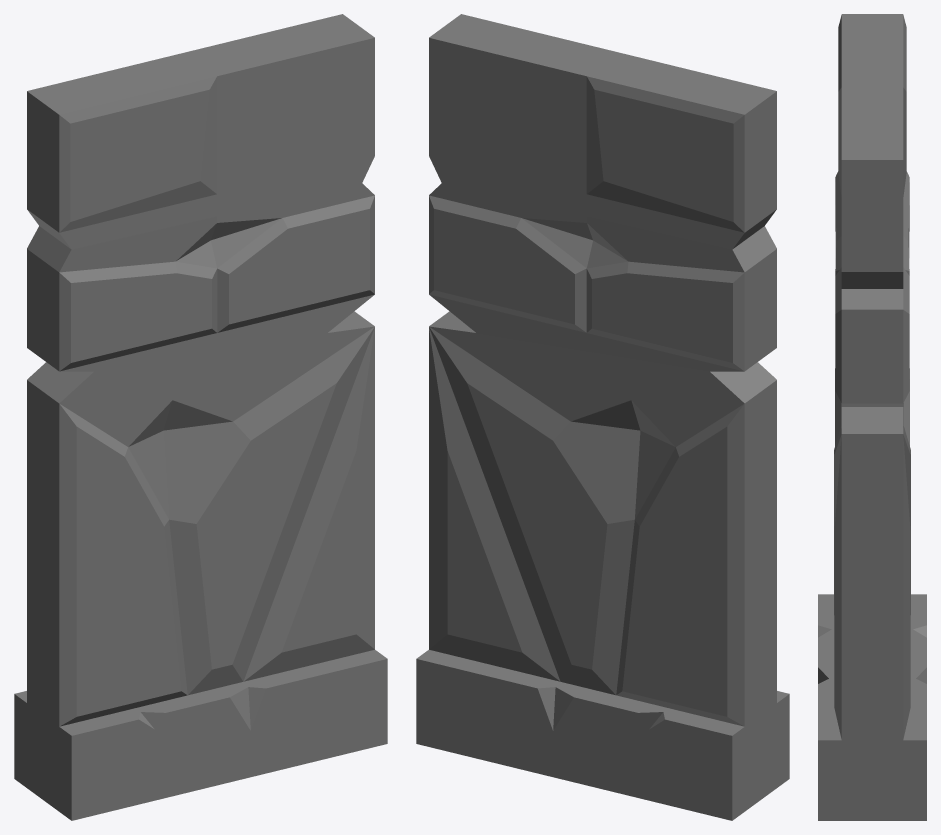
File: stone_wall.fbx
3 views of the same model, side by side, from view 1: azimuth 30°, elevation 25°; view 2: azimuth 150°, elevation 25°; view 3: azimuth 270°, elevation 25° (orthographic). The views are drawn at different scales.
Visible parts, largest first — view 1: stone_wall; view 2: stone_wall; view 3: stone_wall.
Boxes of the visible parts, left/top/right/bottom form: stone_wall: left=14, top=14, right=387, bottom=820; stone_wall: left=416, top=14, right=789, bottom=820; stone_wall: left=818, top=14, right=926, bottom=820.
Bounding box in the file's own units: 200 × 422 × 63.
